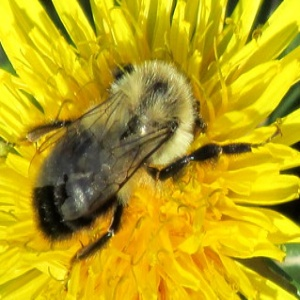bee: (36, 63, 202, 252)
